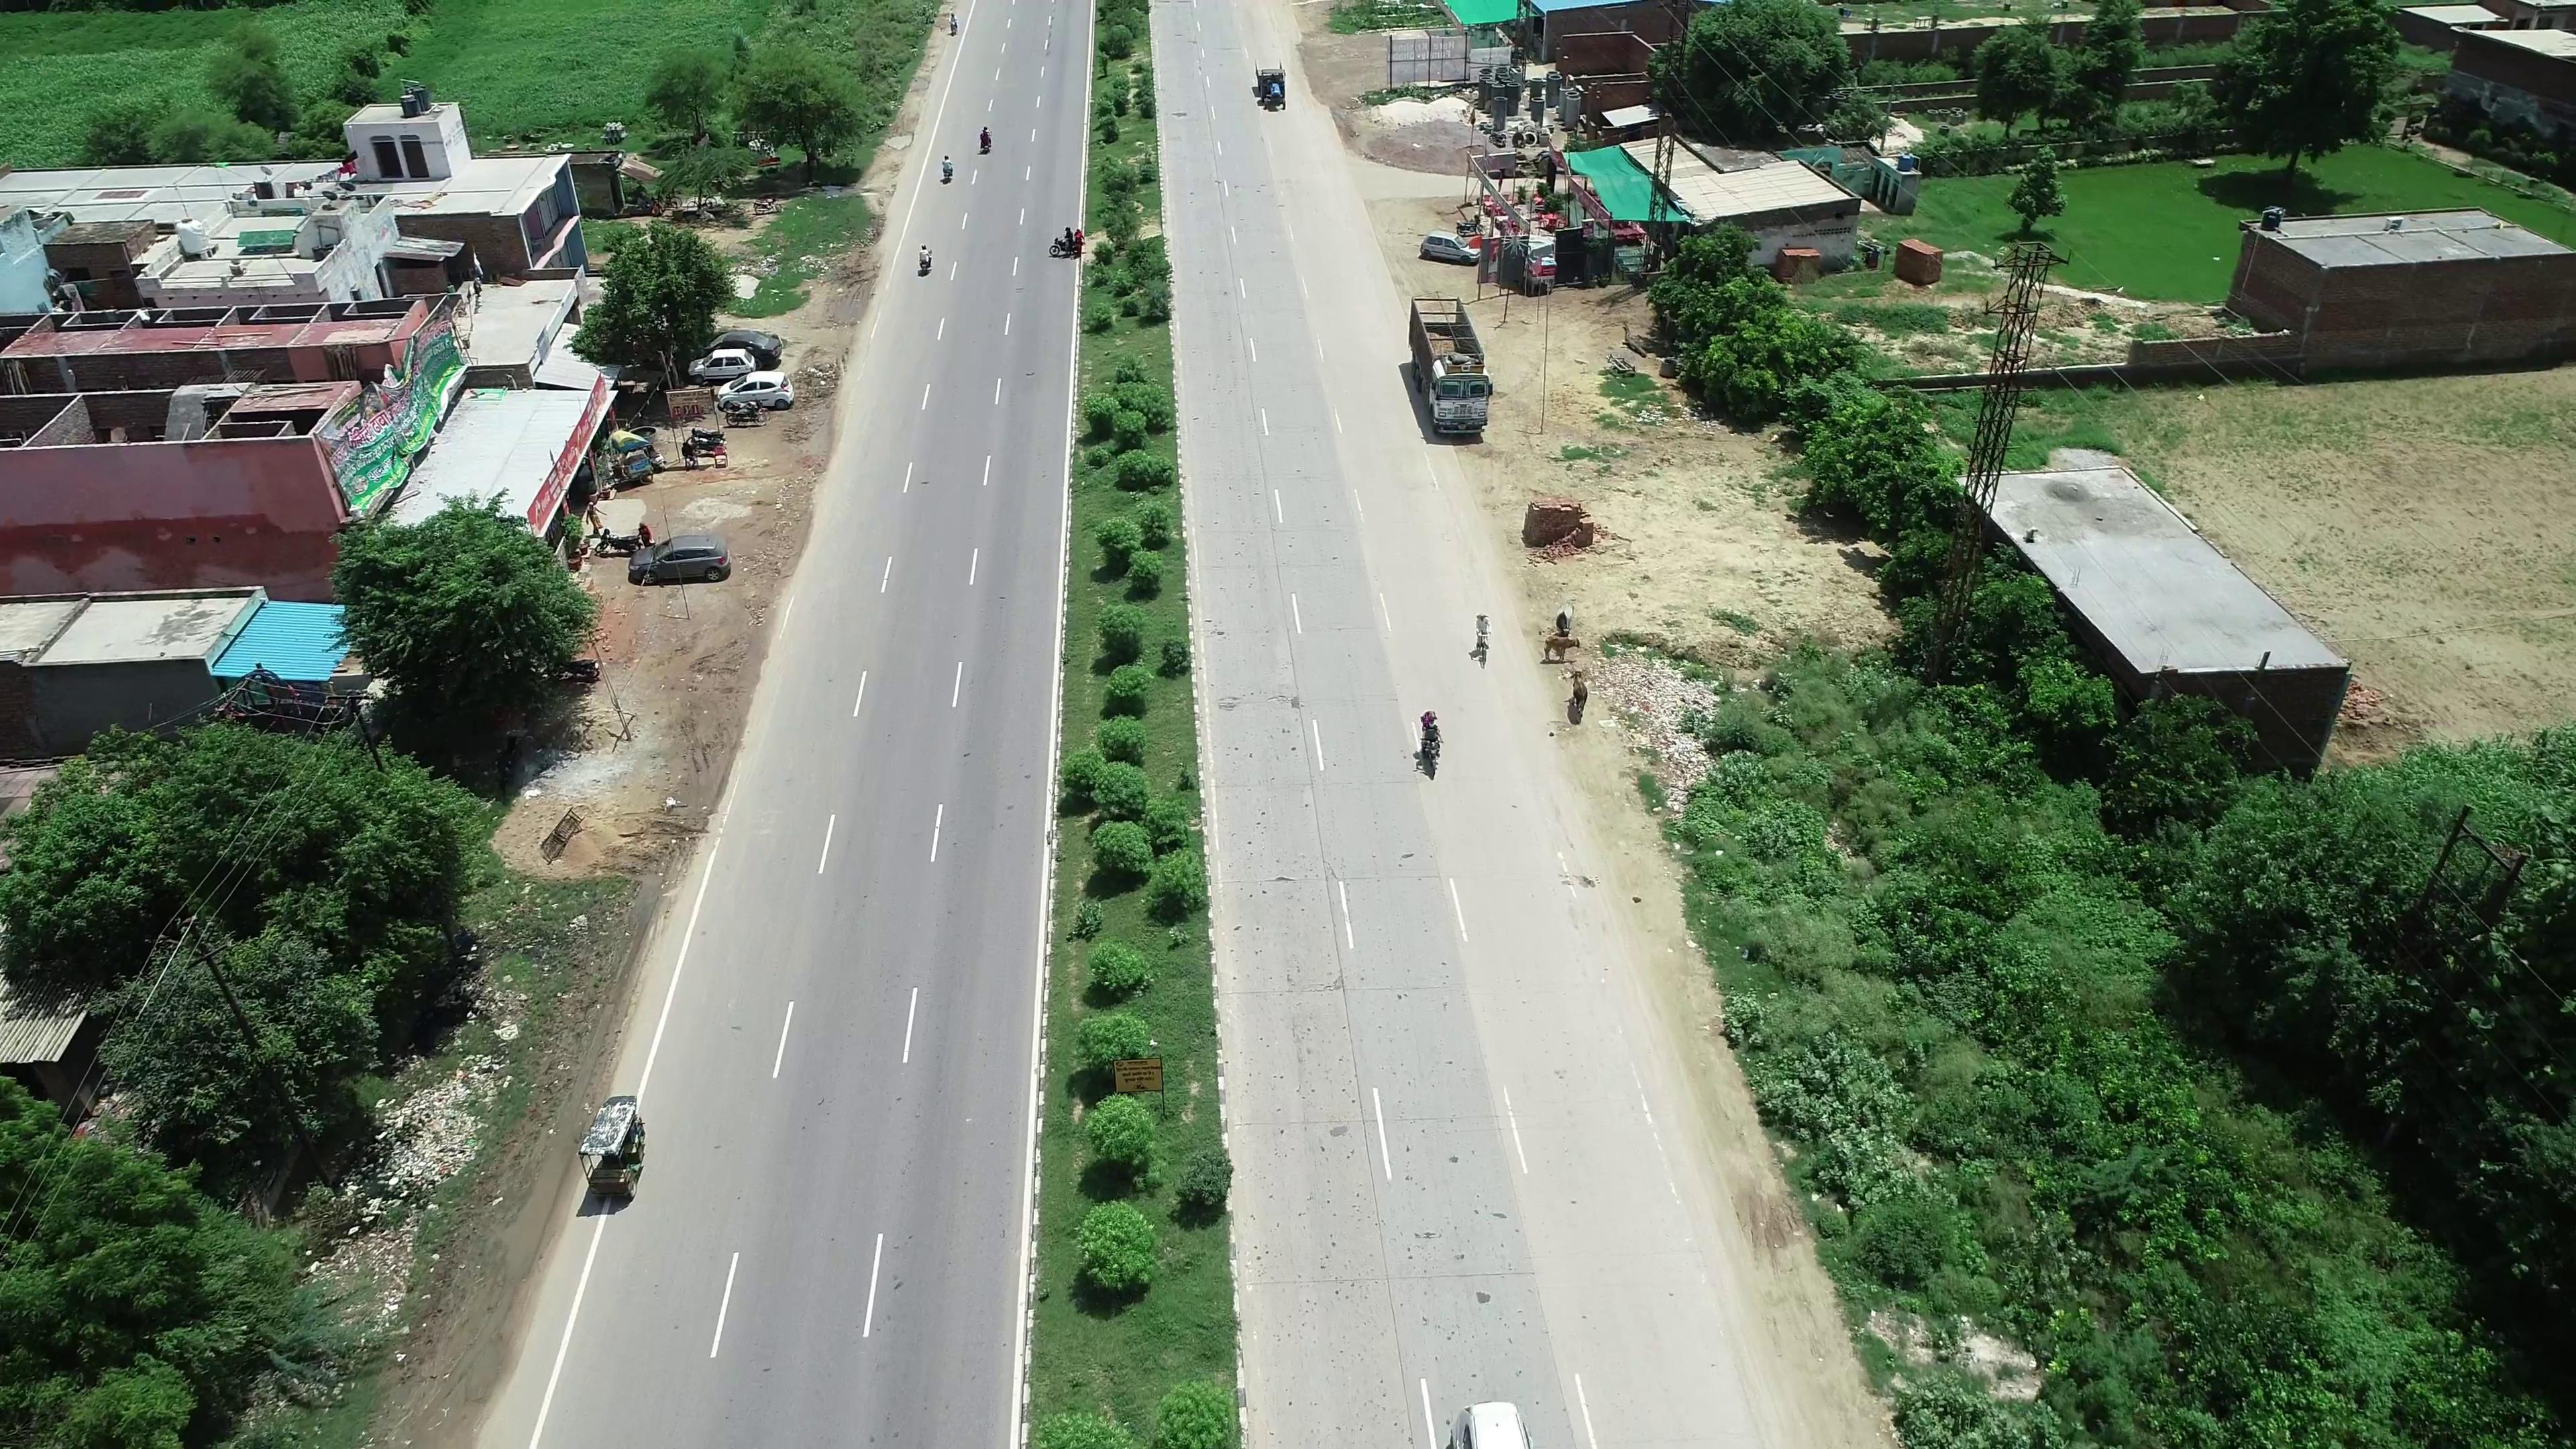Road_side_garbage: (1606, 656, 1716, 787)
